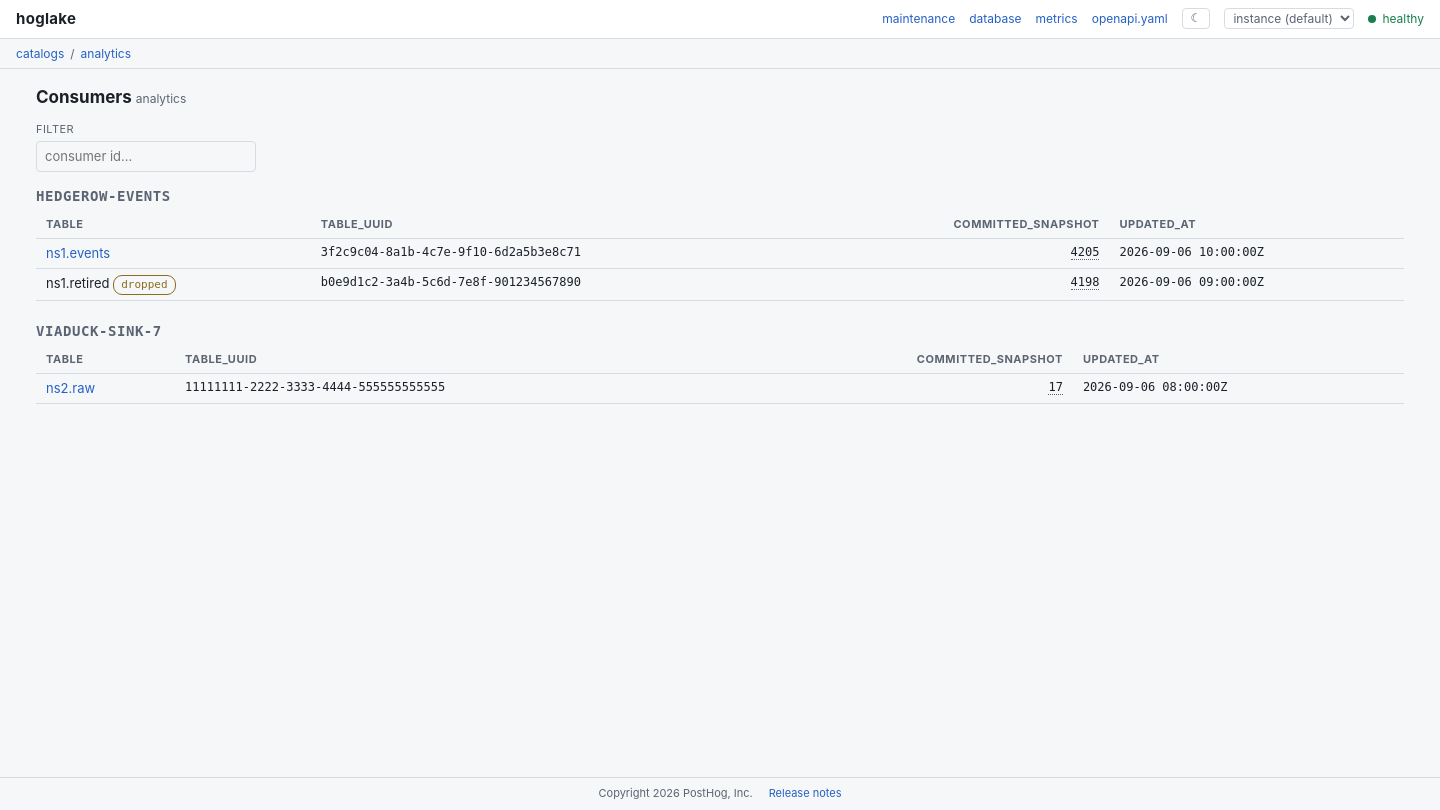
it: ConsumersPage › filters consumers client-side without refetching
The width and height of the screenshot is (1440, 810).
Expected: the heading "hedgerow-events" is shown, left=36, top=188, right=171, bottom=204
In the field named "filter consumers": [146, 156] box left=36, top=141, right=256, bottom=172, type "viaduck"
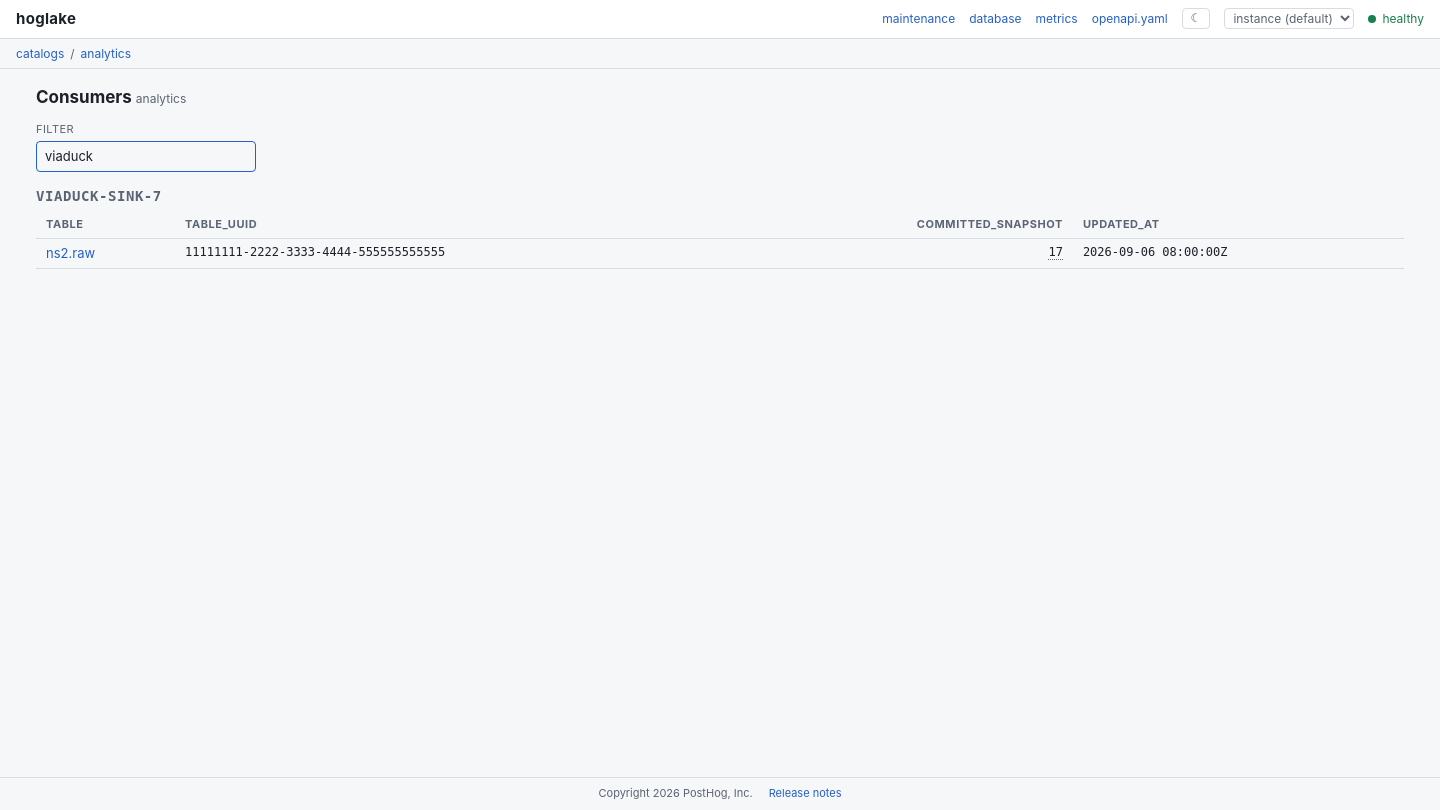
Expected: the heading "viaduck-sink-7" is shown, left=36, top=188, right=162, bottom=204
Expected: the heading "hedgerow-events" is gone
Replace the text in the field named "filter consumers" with "nobody": [146, 156] box left=36, top=141, right=256, bottom=172
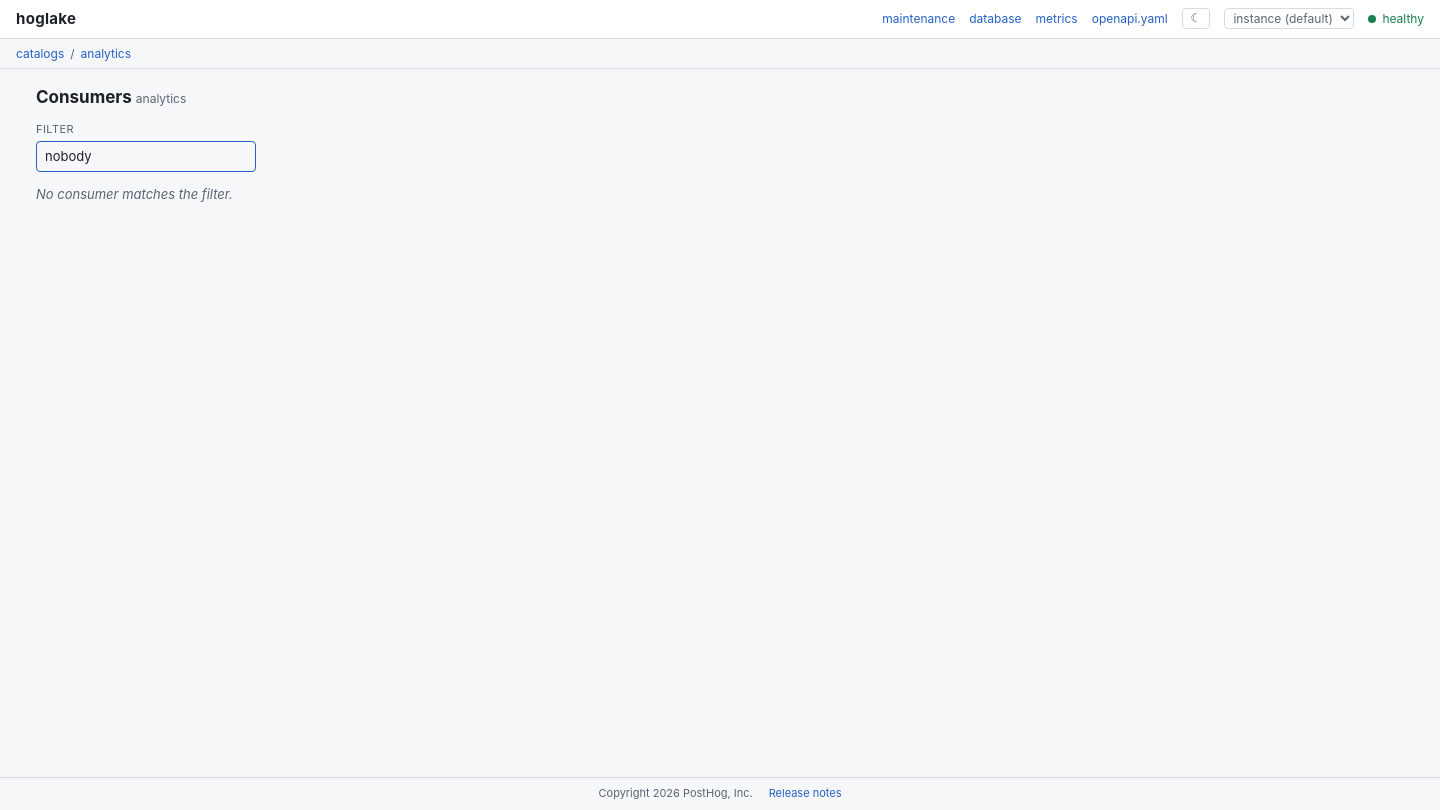
Expected: the text "No consumer matches the filter." is shown, left=36, top=186, right=233, bottom=202
